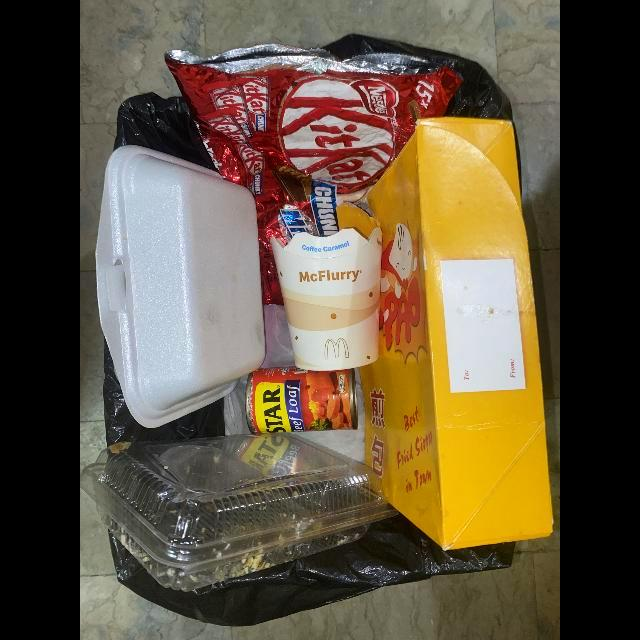aluminum: (246, 367, 358, 434)
cardboard: (337, 117, 554, 553), (270, 228, 383, 372)
food_wrapper: (165, 44, 464, 307)
plastic_container: (80, 433, 400, 592)
